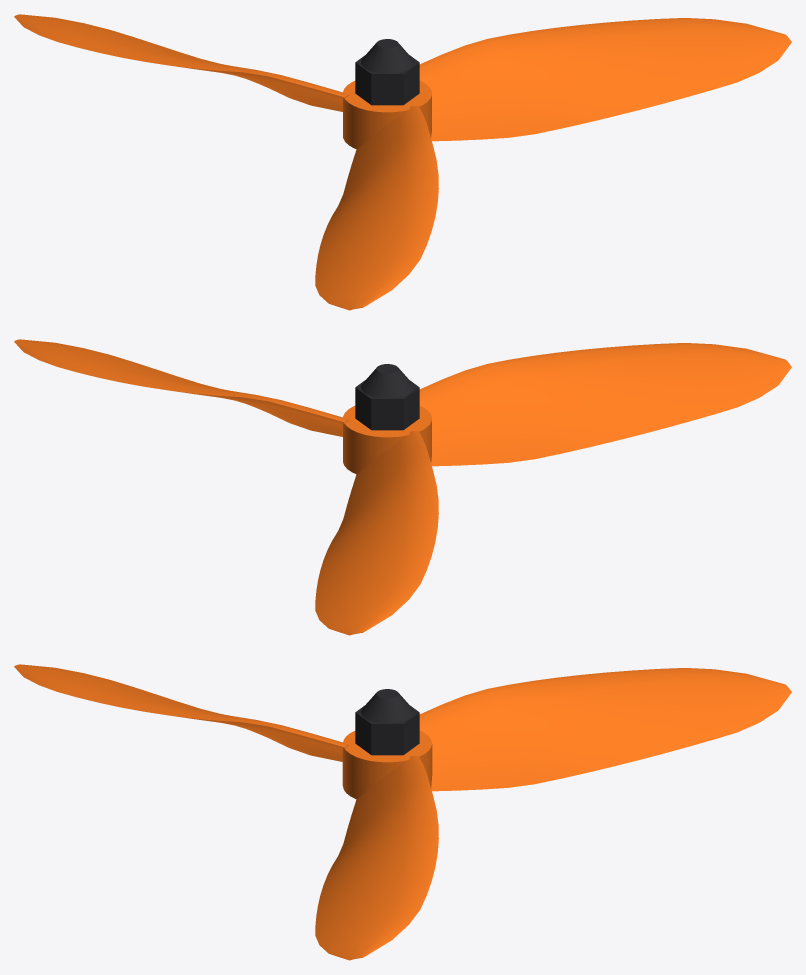
Rendered from prop_5136_3b.glb.
3 views of the same model, one above another, from view 1: azimuth 30°, elevation 25°; view 2: azimuth 150°, elevation 25°; view 3: azimuth 270°, elevation 25° (orthographic).
Parts seen in each view (by area): view 1: prop_5136_3b_M_Prop_5136_3b, prop_5136_3b_M_Nut; view 2: prop_5136_3b_M_Prop_5136_3b, prop_5136_3b_M_Nut; view 3: prop_5136_3b_M_Prop_5136_3b, prop_5136_3b_M_Nut.
Boxes of the visible parts, x1,y1,x2,y2 form: prop_5136_3b_M_Prop_5136_3b: (14, 14, 791, 310); prop_5136_3b_M_Nut: (355, 39, 419, 105); prop_5136_3b_M_Prop_5136_3b: (14, 339, 791, 635); prop_5136_3b_M_Nut: (355, 364, 419, 430); prop_5136_3b_M_Prop_5136_3b: (14, 664, 791, 960); prop_5136_3b_M_Nut: (355, 689, 419, 755).
Size of the model in its own units: 0.1025 by 0.0164 by 0.1132.
